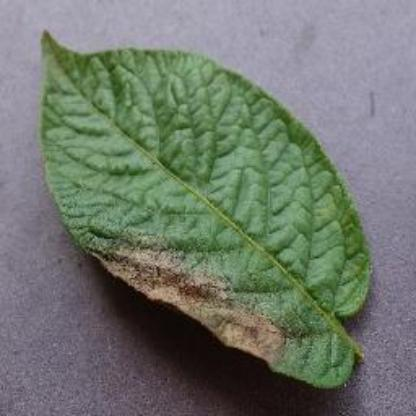Late-Blight: (31, 22, 384, 394)
